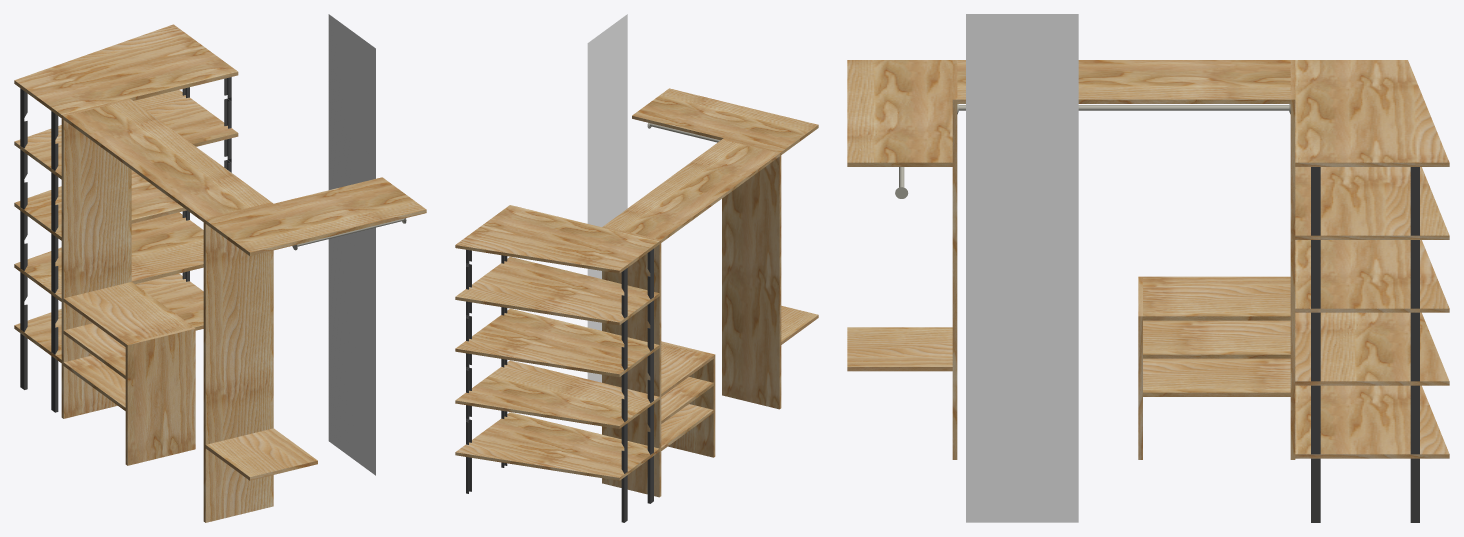
Rendered from wardrobe.gltf.
3 renders of one model, left to right at view 1: azimuth 30°, elevation 25°; view 2: azimuth 150°, elevation 25°; view 3: azimuth 270°, elevation 25°, orthographic. The views are drawn at different scales.
Parts seen in each view (by area): view 1: Wardrobe Shelves, Wardrobe Mirror, Shelf Guides.003, Shelf Guides, Shelf Guides.001; view 2: Wardrobe Shelves, Wardrobe Mirror, Shelf Guides.003, Shelf Guides, Shelf Guides.002; view 3: Wardrobe Shelves, Wardrobe Mirror, Shelf Guides.001, Shelf Guides.002.
Part boxes in pixels (x1,y1,x2,y2): Wardrobe Shelves: [14, 24, 426, 522]; Wardrobe Mirror: [328, 14, 375, 475]; Shelf Guides.003: [20, 88, 27, 389]; Shelf Guides: [51, 111, 58, 412]; Shelf Guides.001: [224, 77, 231, 172]; Wardrobe Shelves: [455, 88, 818, 497]; Wardrobe Mirror: [587, 14, 627, 382]; Shelf Guides.003: [621, 268, 627, 522]; Shelf Guides: [647, 248, 653, 503]; Shelf Guides.002: [466, 249, 471, 493]; Wardrobe Shelves: [847, 60, 1449, 459]; Wardrobe Mirror: [966, 14, 1078, 522]; Shelf Guides.001: [1311, 167, 1320, 522]; Shelf Guides.002: [1410, 167, 1419, 522].
Size of the model in its own units: 1.3 by 3 by 3.22.
4 materials, 1 textured.
